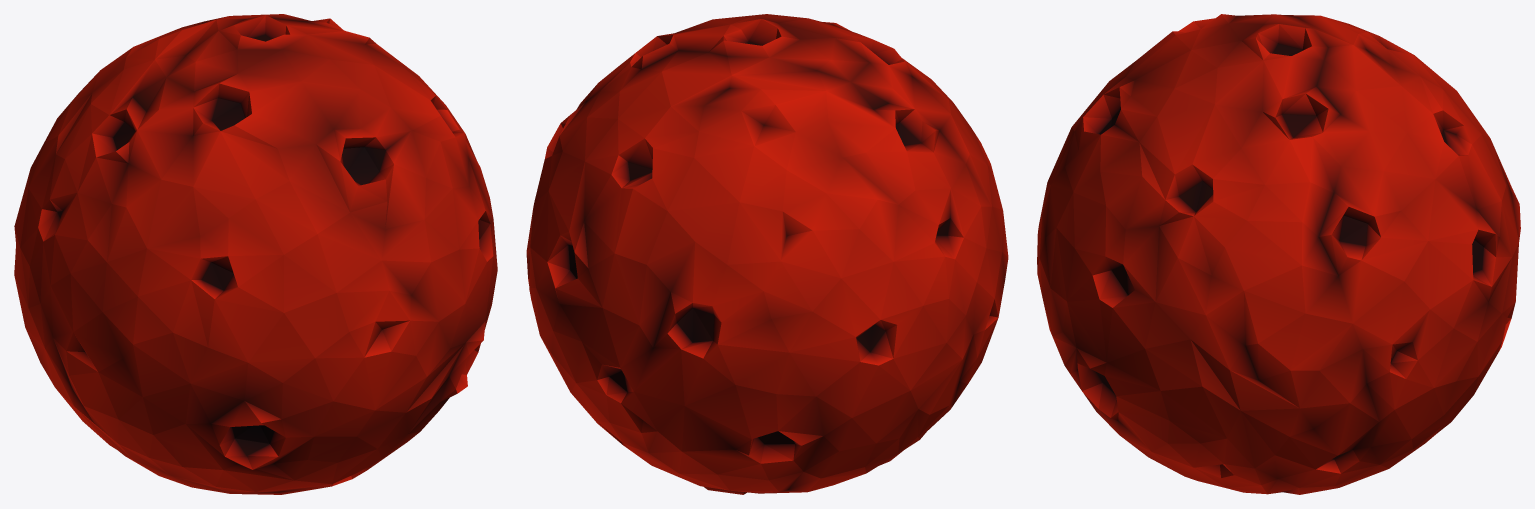
File: moon45.fbx
3 views of the same model, side by side, from view 1: azimuth 30°, elevation 25°; view 2: azimuth 150°, elevation 25°; view 3: azimuth 270°, elevation 25° (orthographic).
Parts seen in each view (by area): view 1: attribblur1; view 2: attribblur1; view 3: attribblur1.
Boxes of the visible parts, x1,y1,x2,y2 form: attribblur1: (14, 14, 497, 494); attribblur1: (526, 14, 1008, 494); attribblur1: (1037, 14, 1520, 494).
Bounding box in the file's own units: 0.8156 × 0.8304 × 0.8182.
